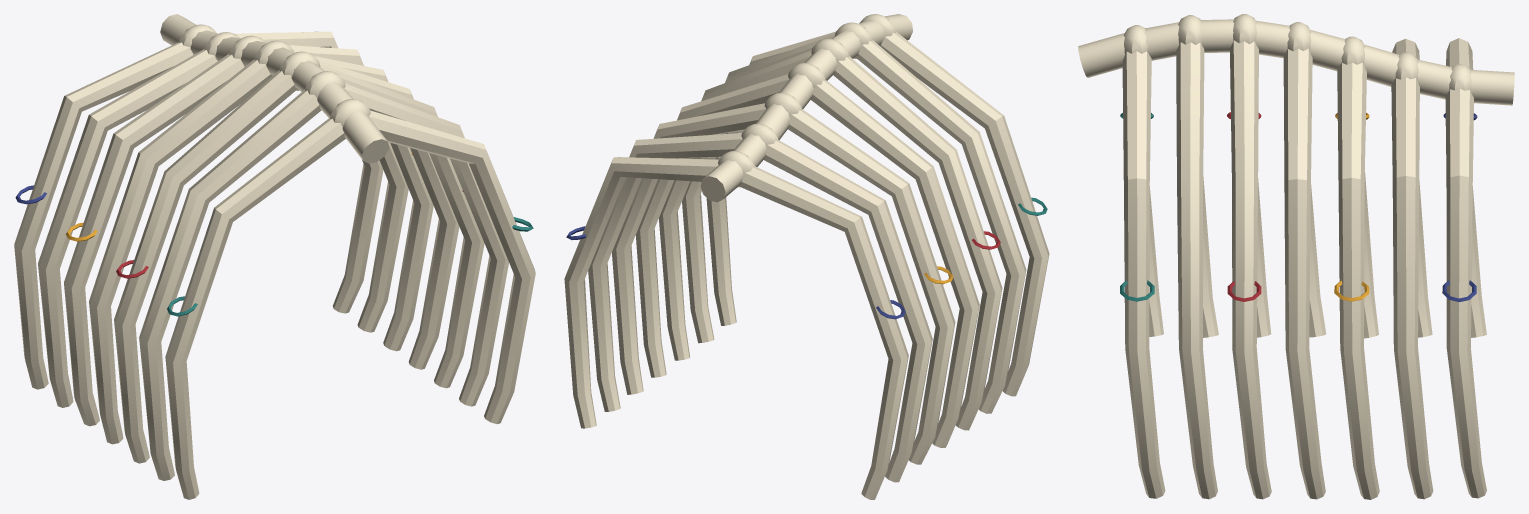
The model's file is deco_bones_rib_arch.fbx.
3 renders of one model, left to right at view 1: azimuth 30°, elevation 25°; view 2: azimuth 150°, elevation 25°; view 3: azimuth 270°, elevation 25°, orthographic. The views are drawn at different scales.
Visible parts, largest first — view 1: Bones_RibArch_Rib1, Bones_RibArch_Rib2, Bones_RibArch_Rib3, Bones_RibArch_Rib4, Bones_RibArch_Rib5, Bones_RibArch_Rib6, Bones_RibArch_Rib7, Bones_RibArch_Spine; view 2: Bones_RibArch_Rib7, Bones_RibArch_Rib6, Bones_RibArch_Rib5, Bones_RibArch_Rib4, Bones_RibArch_Rib3, Bones_RibArch_Rib2, Bones_RibArch_Rib1, Bones_RibArch_Spine; view 3: Bones_RibArch_Spine, Bones_RibArch_Rib3, Bones_RibArch_Rib2, Bones_RibArch_Rib4, Bones_RibArch_Rib1, Bones_RibArch_Rib5, Bones_RibArch_Rib7, Bones_RibArch_Rib6.
Boxes of the visible parts, <box> form: Bones_RibArch_Rib1: <box>165,110,535,499</box>; Bones_RibArch_Rib2: <box>139,83,508,480</box>; Bones_RibArch_Rib3: <box>114,64,484,463</box>; Bones_RibArch_Rib4: <box>89,59,459,444</box>; Bones_RibArch_Rib5: <box>64,52,433,426</box>; Bones_RibArch_Rib6: <box>38,45,408,407</box>; Bones_RibArch_Rib7: <box>14,31,383,389</box>; Bones_RibArch_Spine: <box>160,14,389,163</box>; Bones_RibArch_Rib7: <box>564,157,908,499</box>; Bones_RibArch_Rib6: <box>588,133,932,482</box>; Bones_RibArch_Rib5: <box>612,103,955,464</box>; Bones_RibArch_Rib4: <box>635,74,979,447</box>; Bones_RibArch_Rib3: <box>659,50,1002,430</box>; Bones_RibArch_Rib2: <box>682,34,1026,413</box>; Bones_RibArch_Rib1: <box>706,31,1049,396</box>; Bones_RibArch_Spine: <box>700,14,912,202</box>; Bones_RibArch_Spine: <box>1078,14,1514,105</box>; Bones_RibArch_Rib3: <box>1227,40,1271,499</box>; Bones_RibArch_Rib2: <box>1176,42,1218,499</box>; Bones_RibArch_Rib4: <box>1283,48,1326,499</box>; Bones_RibArch_Rib1: <box>1120,51,1165,498</box>; Bones_RibArch_Rib5: <box>1334,62,1379,499</box>; Bones_RibArch_Rib7: <box>1442,38,1486,498</box>; Bones_RibArch_Rib6: <box>1391,38,1433,499</box>.
Size of the model in its own units: 381 by 370 by 365.
